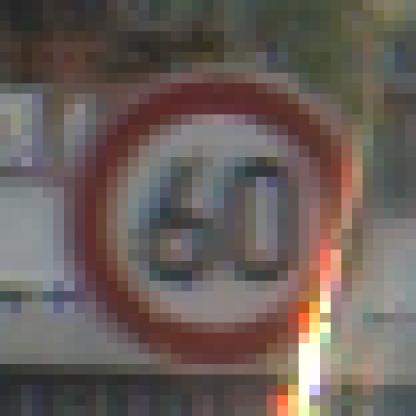Speed Limit 60: (82, 74, 349, 358)
